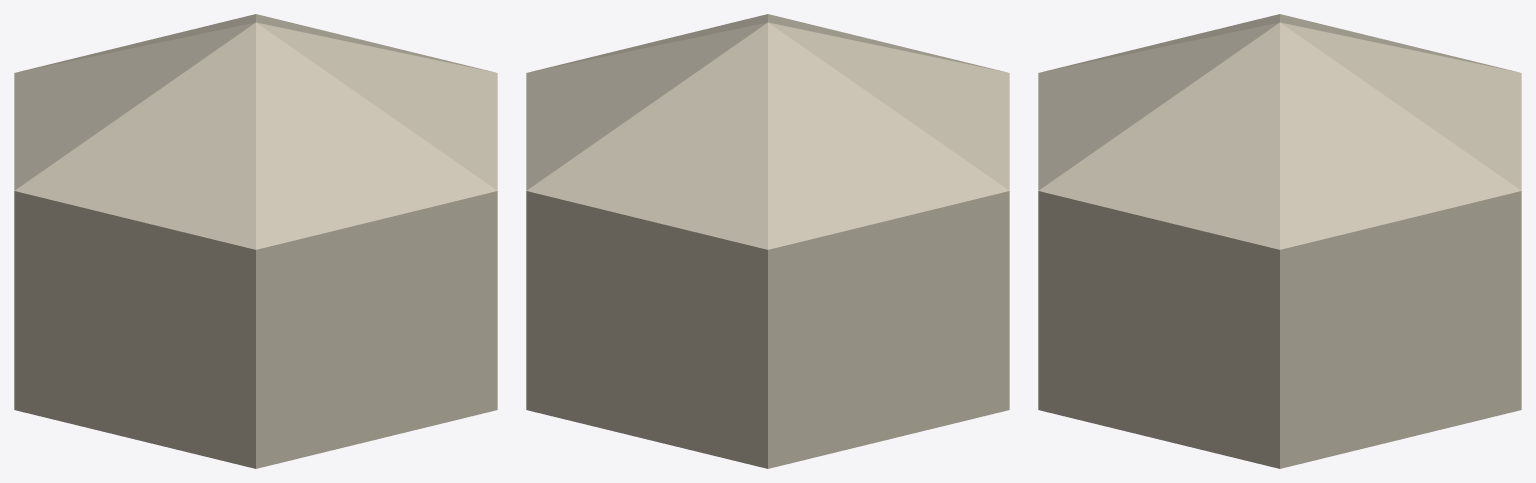
Rendered from dust.glb.
3 renders of one model, left to right at view 1: azimuth 30°, elevation 25°; view 2: azimuth 150°, elevation 25°; view 3: azimuth 270°, elevation 25°, orthographic.
Parts seen in each view (by area): view 1: puff; view 2: puff; view 3: puff.
Boxes of the visible parts, x1,y1,x2,y2 form: puff: [14, 14, 497, 468]; puff: [526, 14, 1009, 468]; puff: [1038, 14, 1521, 468].
Size of the model in its own units: 0.866 by 0.75 by 0.75.
